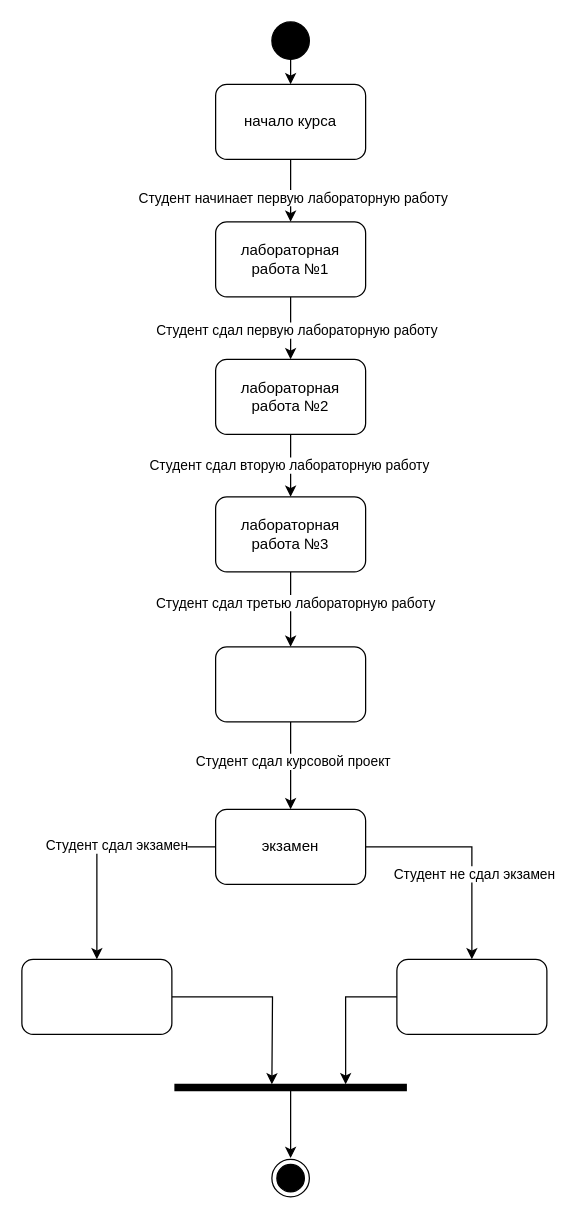
Image size: 576x1219. Some labels were removed from this diagram. The shapes that lost their labels are listed below. From the top down, each one's centre as x and y in pixels, then its label:
At point 290,684: "курсовой проект".
At point 96,996: "курс пройден".
At point 471,996: "курс не пройден".
